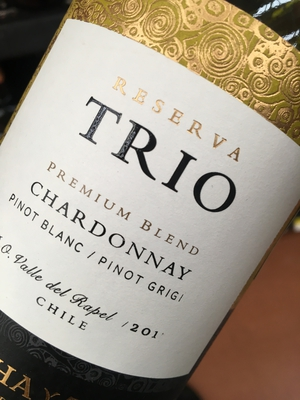trio chardonnay: (6, 1, 298, 400)
